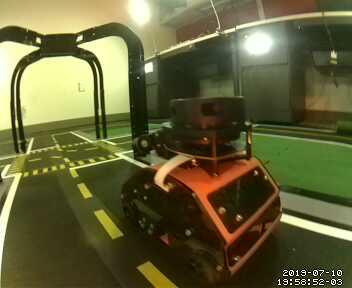pheeno: (120, 95, 290, 286)
